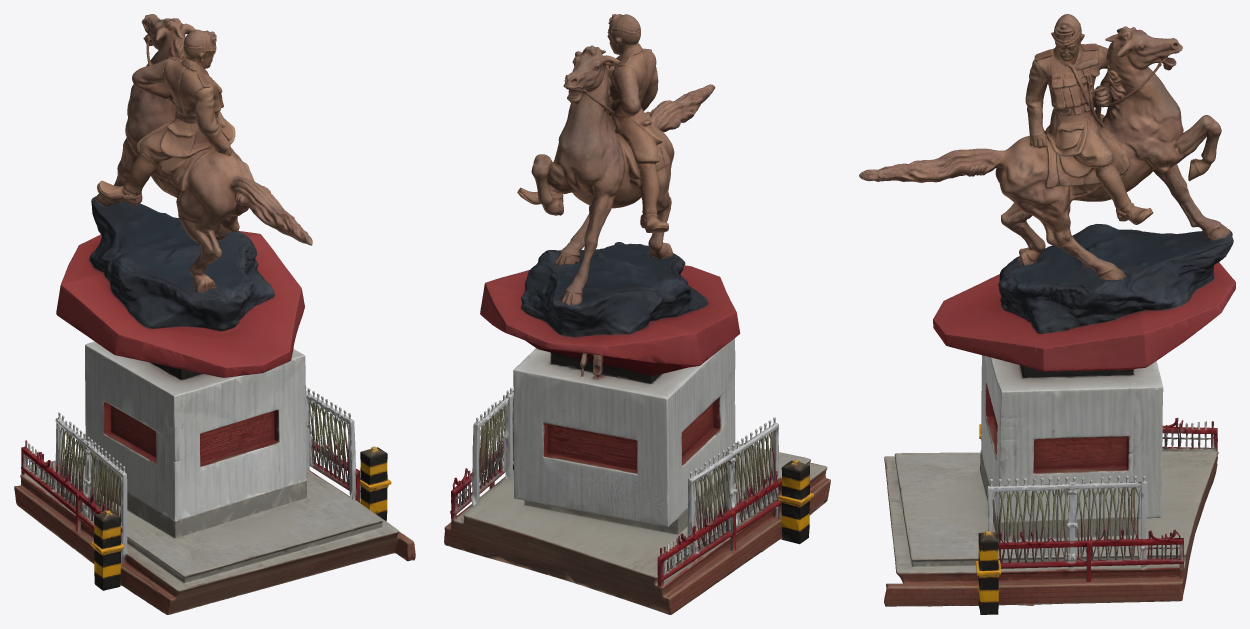
The model's file is netaji_scb.glb.
The picture shows the model from 3 angles, left to right: view 1: azimuth 30°, elevation 25°; view 2: azimuth 150°, elevation 25°; view 3: azimuth 270°, elevation 25°; orthographic projection. The views are drawn at different scales.
Parts seen in each view (by area): view 1: tripo_node_6f4936a3-48f3-4d16-844f-8da7a4e63d09; view 2: tripo_node_6f4936a3-48f3-4d16-844f-8da7a4e63d09; view 3: tripo_node_6f4936a3-48f3-4d16-844f-8da7a4e63d09.
Part boxes in pixels (x1,y1,x2,y2): tripo_node_6f4936a3-48f3-4d16-844f-8da7a4e63d09: (14, 14, 415, 614); tripo_node_6f4936a3-48f3-4d16-844f-8da7a4e63d09: (444, 14, 830, 614); tripo_node_6f4936a3-48f3-4d16-844f-8da7a4e63d09: (859, 14, 1235, 614).
Size of the model in its own units: 0.5904 by 0.9772 by 0.6353.
Materials: 1 (1 with a texture image).
